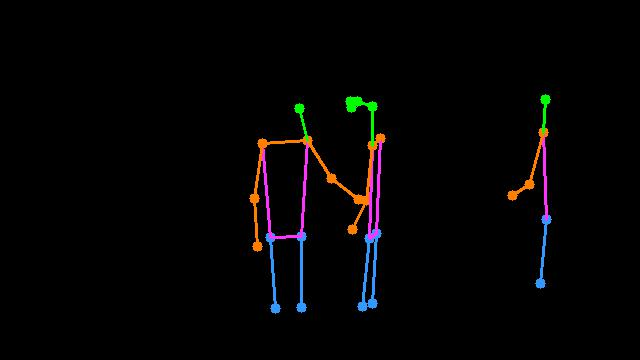normal: (237, 68, 405, 344)
